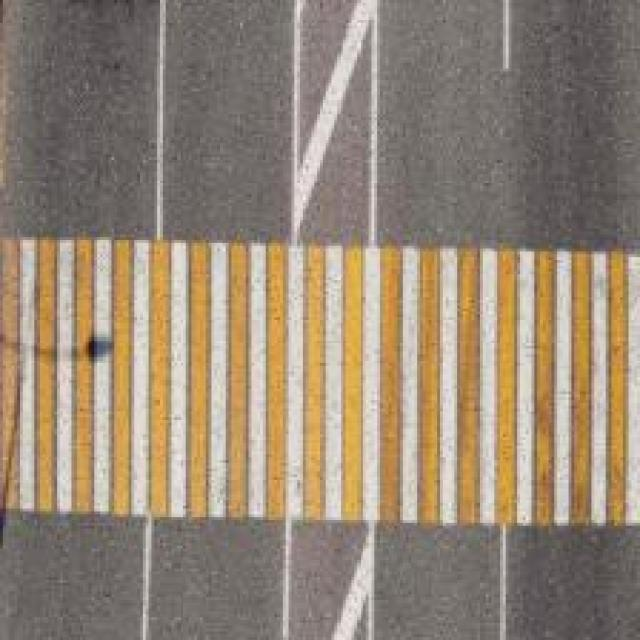crosswalk: (2, 245, 640, 525)
